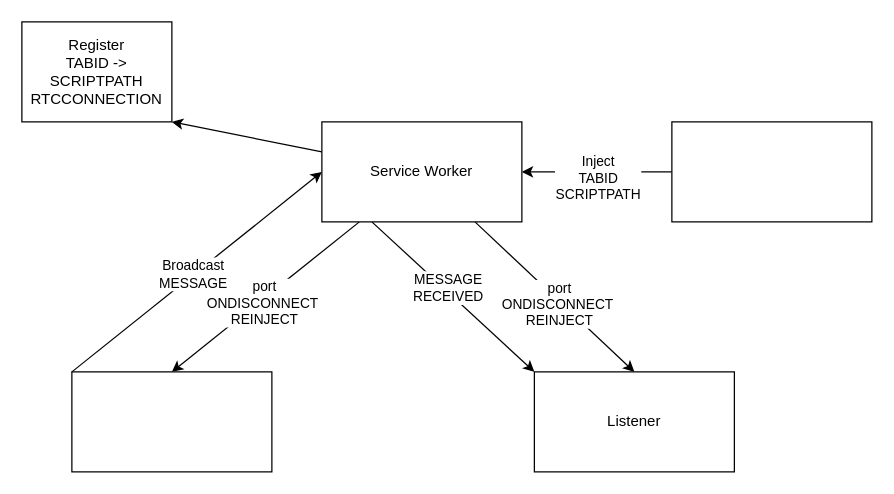
Image size: 894x494. Some labels were removed from this diagram. Here are the shapes that lost their labels. From the top down, the centre of each, then its label:
point (771, 171): Extension Interface
point (171, 421): Streamer
